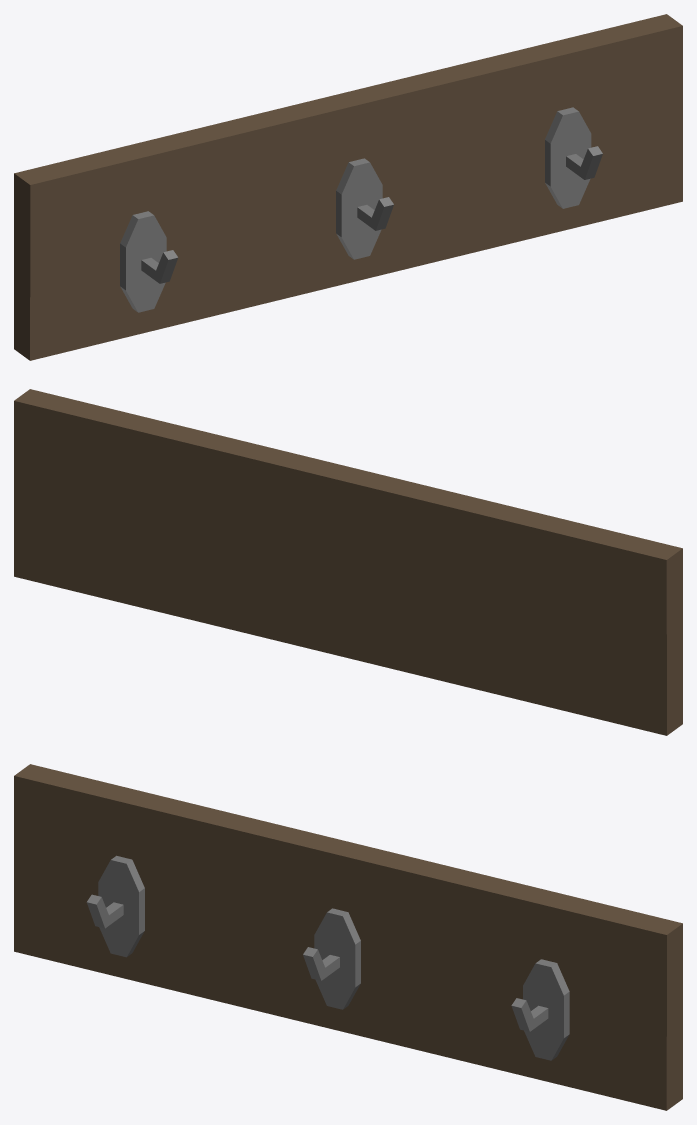
Rendered from CoatHook.glb.
3 views of the same model, one above another, from view 1: azimuth 30°, elevation 25°; view 2: azimuth 150°, elevation 25°; view 3: azimuth 330°, elevation 25° (orthographic).
Parts seen in each view (by area): view 1: CoatHook.001; view 2: CoatHook.001; view 3: CoatHook.001.
Boxes of the visible parts, bbox=[...] form: CoatHook.001: bbox=[14, 14, 682, 360]; CoatHook.001: bbox=[14, 389, 682, 735]; CoatHook.001: bbox=[14, 764, 682, 1110].
Bounding box in the file's own units: 1.15 × 0.2968 × 0.1498.
2 materials, 2 textured.
